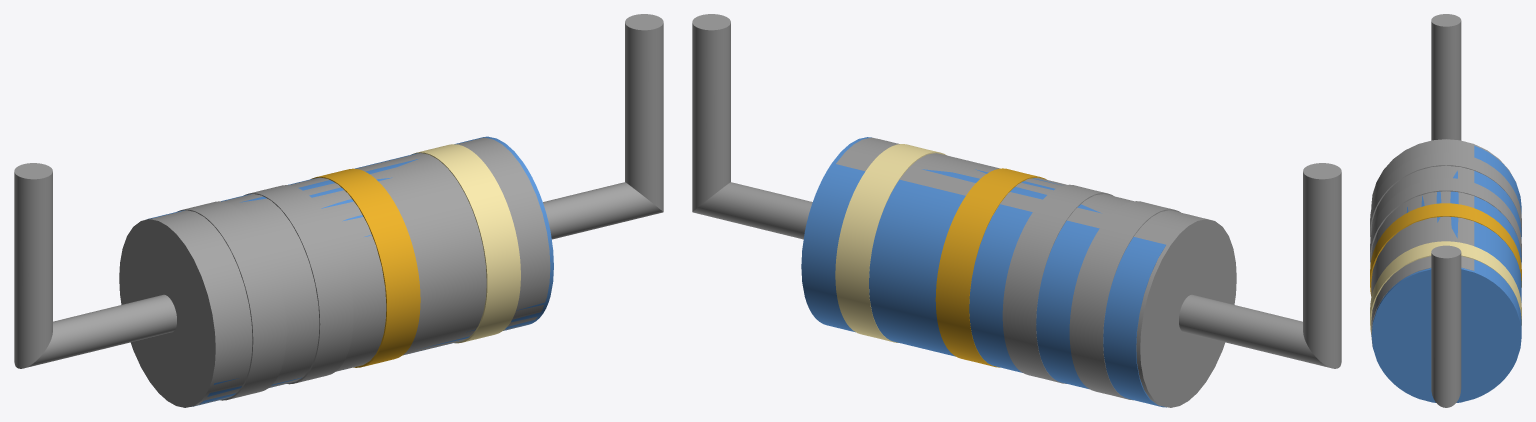
The model's file is mega.fbx.
The picture shows the model from 3 angles, left to right: view 1: azimuth 30°, elevation 25°; view 2: azimuth 150°, elevation 25°; view 3: azimuth 270°, elevation 25°; orthographic projection. The views are drawn at different scales.
Parts seen in each view (by area): view 1: mainBody (×2), ring 3, ring6, ring 1, ring 2; view 2: mainBody (×2), ring 3, ring6, ring 2, ring 1; view 3: mainBody (×2), ring 3, ring 2, ring 1, ring6.
Part boxes in pixels (x1=…): mainBody (×2): x1=14, y1=14, x2=663, y2=407; ring 3: x1=311, y1=168, x2=420, y2=367; ring6: x1=411, y1=144, x2=520, y2=343; ring 1: x1=177, y1=201, x2=286, y2=400; ring 2: x1=244, y1=185, x2=353, y2=384; mainBody (×2): x1=692, y1=14, x2=1341, y2=407; ring 3: x1=935, y1=168, x2=1046, y2=367; ring6: x1=835, y1=144, x2=946, y2=342; ring 2: x1=1002, y1=184, x2=1113, y2=383; ring 1: x1=1069, y1=201, x2=1180, y2=400; mainBody (×2): x1=1371, y1=14, x2=1521, y2=407; ring 3: x1=1370, y1=203, x2=1521, y2=295; ring 2: x1=1370, y1=178, x2=1521, y2=264; ring 1: x1=1370, y1=152, x2=1521, y2=238; ring6: x1=1370, y1=241, x2=1521, y2=334.
Bounding box in the file's own units: 385 × 151 × 101.
